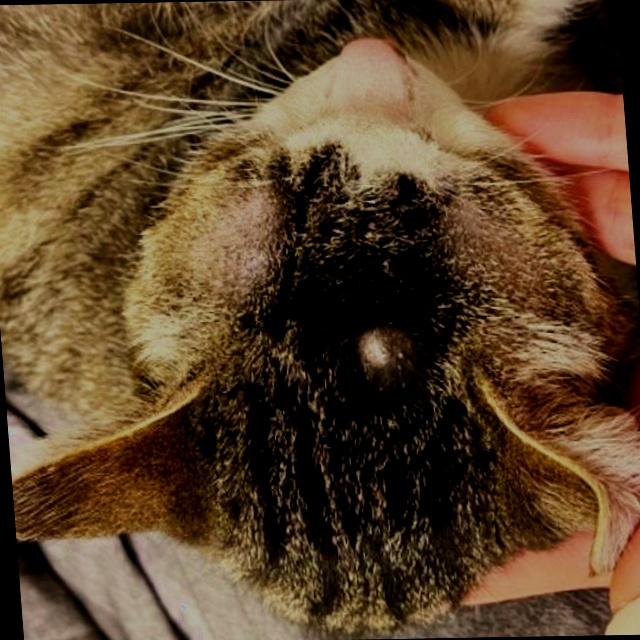lump_and_bump: (347, 322, 402, 371)
